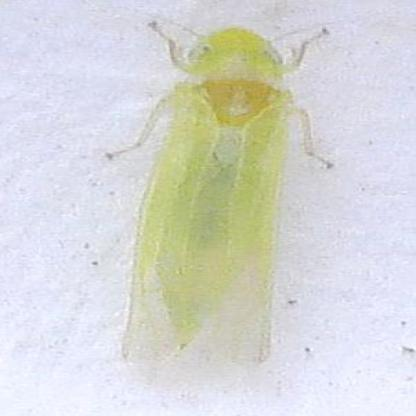green-leafhopper: (107, 20, 337, 362)
